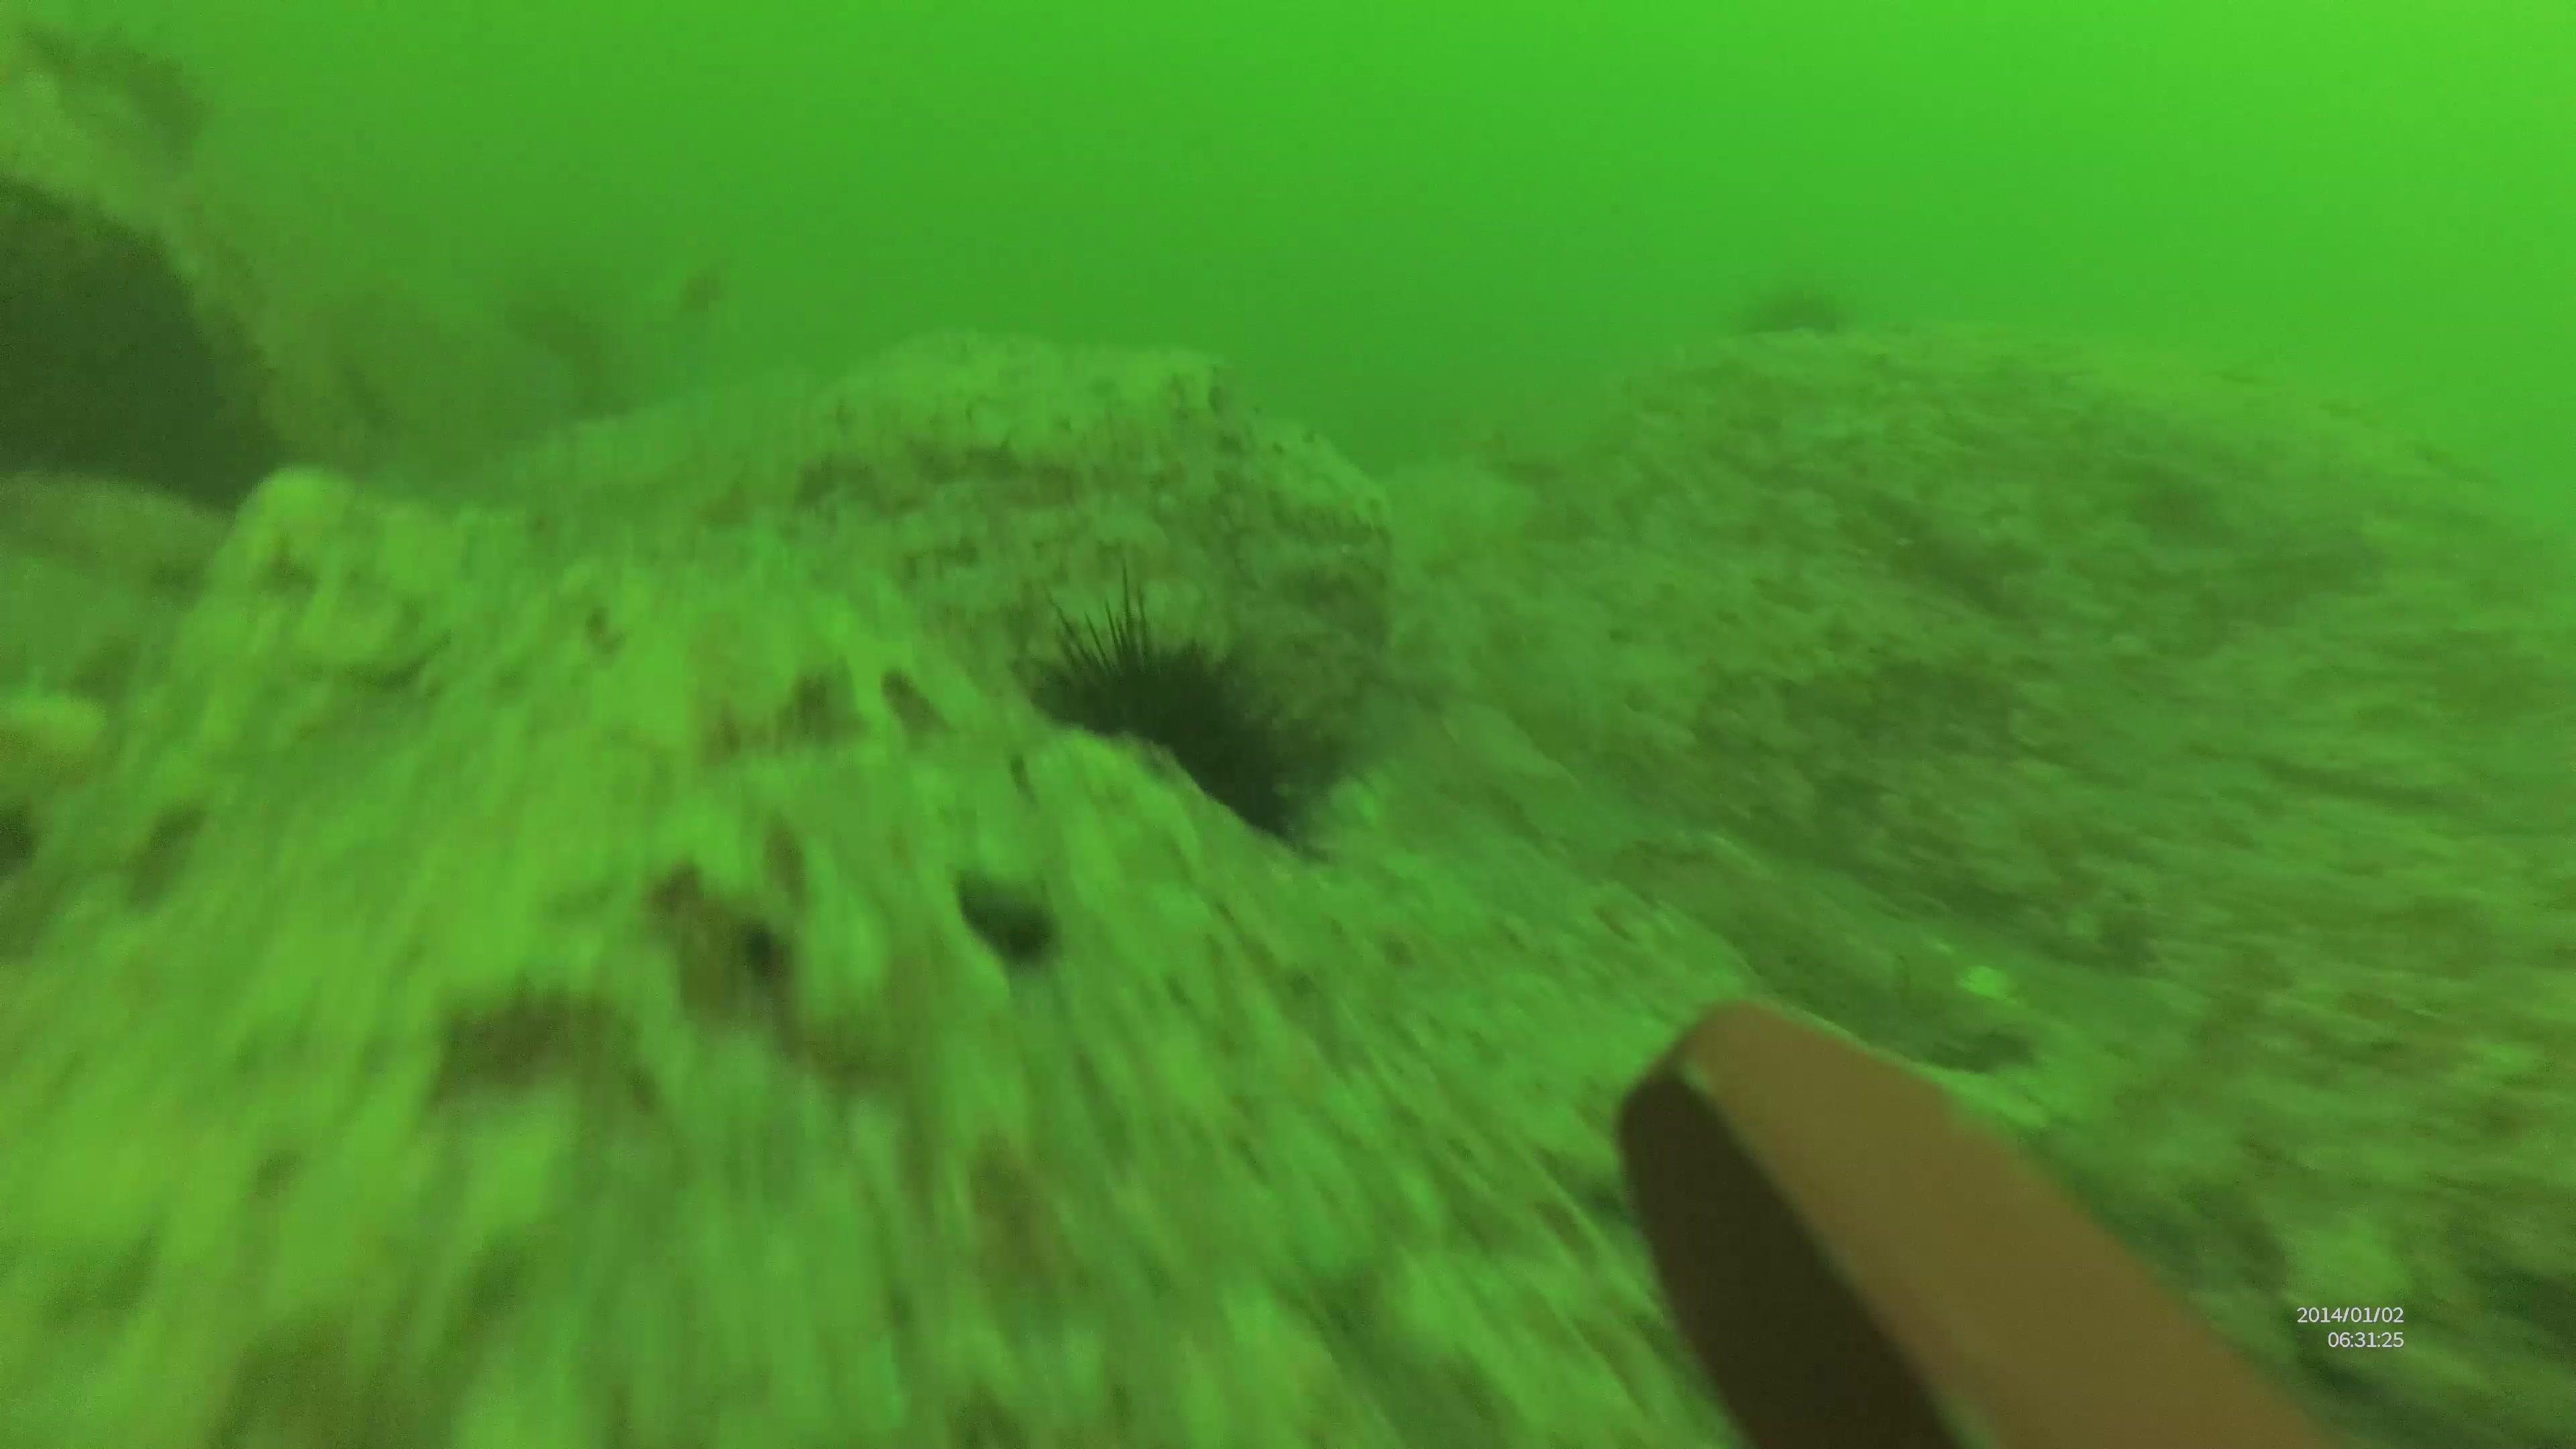echinus: (1012, 589, 1330, 824)
